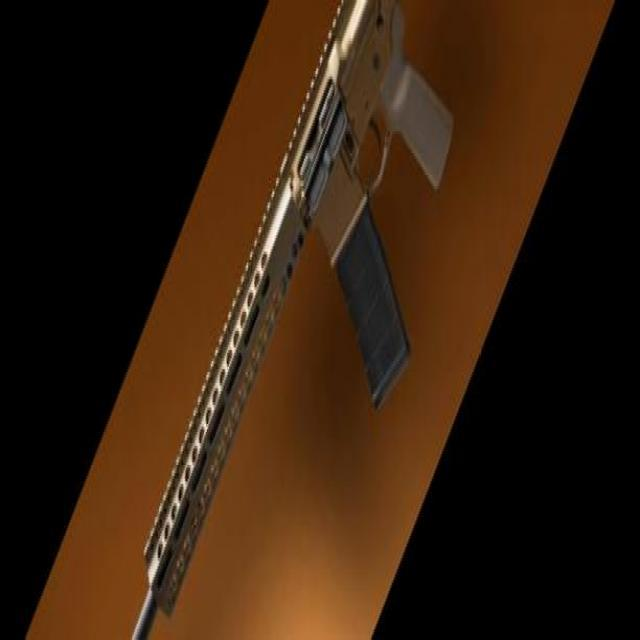weapon: (132, 0, 454, 640)
